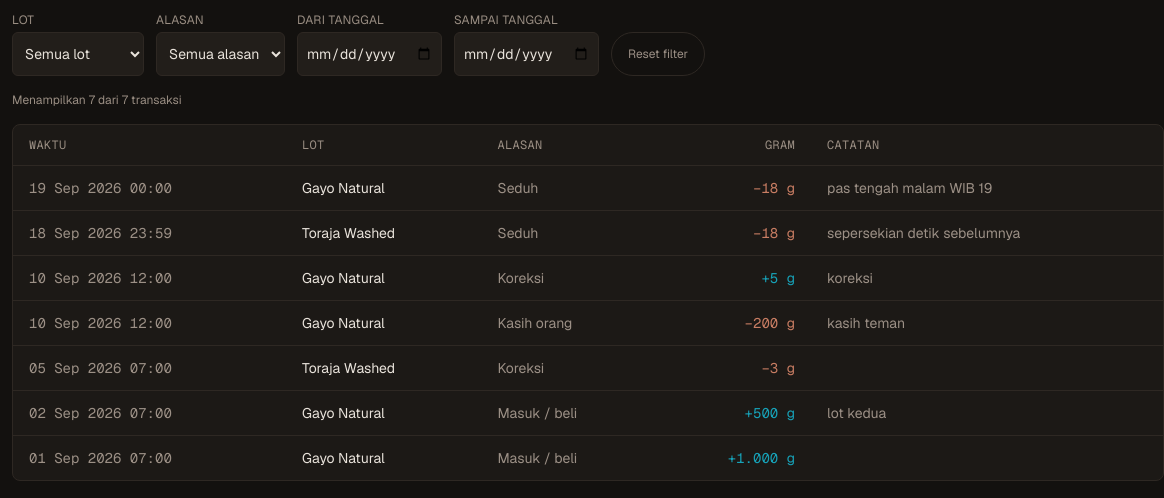
Scenario: HistoryList filter alasan › memfilter berdasarkan alasan
Select "Seduh" in the dropdown labelled "Alasan": (220, 54) 156,32 -> 285,76
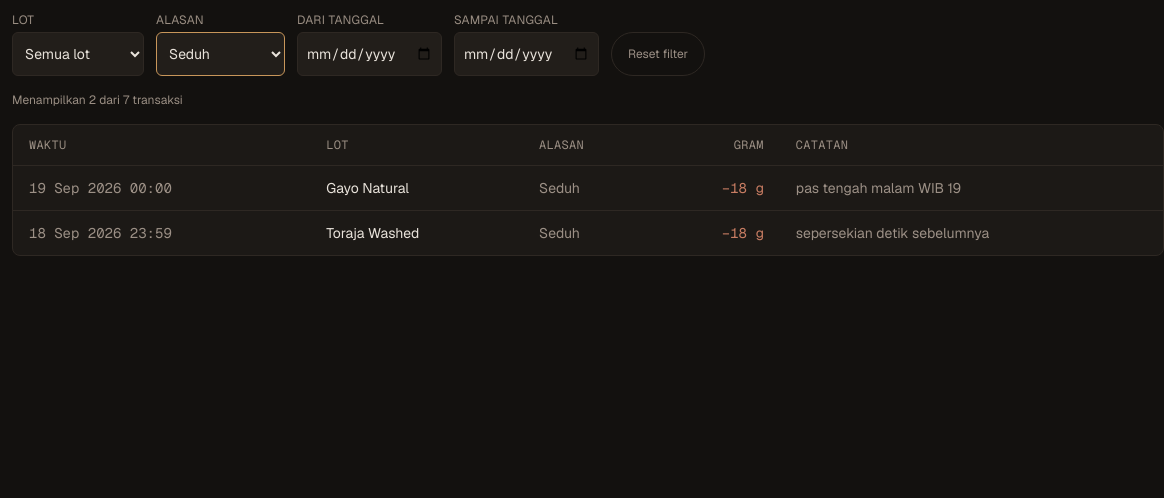
Now the text "Menampilkan 2 dari 7 transaksi" is shown, box 12,92 -> 183,108
Now the text "pas tengah malam WIB 19" is shown 2 times
Now the text "sepersekian detik sebelumnya" is shown 2 times
